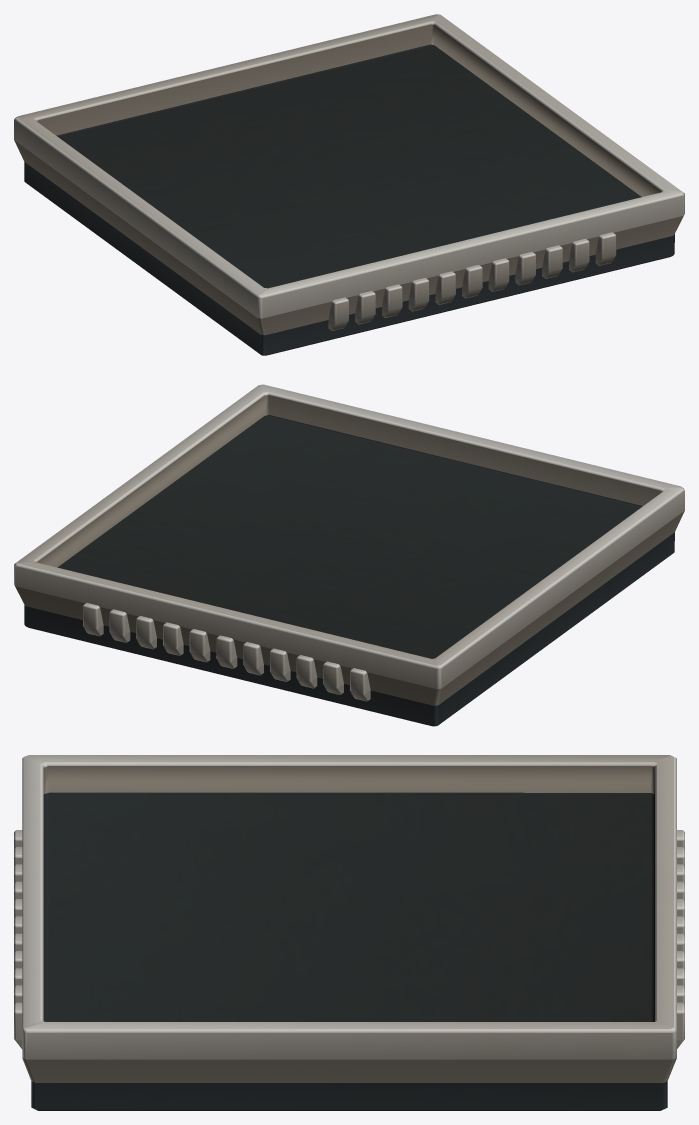
The model's file is office_building_type1_roof_cream.fbx.
3 views of the same model, one above another, from view 1: azimuth 30°, elevation 25°; view 2: azimuth 150°, elevation 25°; view 3: azimuth 270°, elevation 25° (orthographic). The views are drawn at different scales.
Visible parts, largest first — view 1: office_building_type1_roof_cream; view 2: office_building_type1_roof_cream; view 3: office_building_type1_roof_cream.
Boxes of the visible parts, x1=… form: office_building_type1_roof_cream: x1=14, y1=14, x2=684, y2=355; office_building_type1_roof_cream: x1=14, y1=384, x2=684, y2=726; office_building_type1_roof_cream: x1=14, y1=755, x2=684, y2=1110.
Bounding box in the file's own units: 1600 × 232 × 1640.
